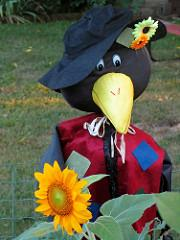sunflower: (35, 160, 93, 235), (132, 16, 161, 38)
